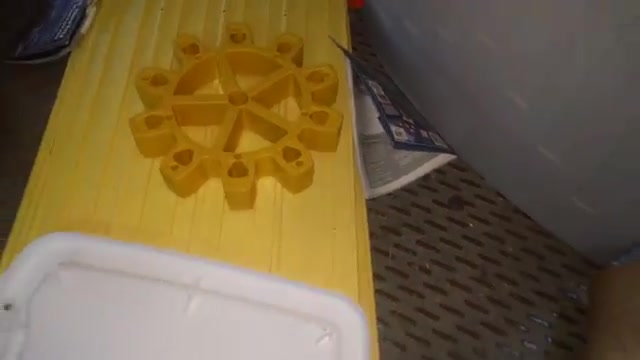gear: (124, 20, 348, 213)
